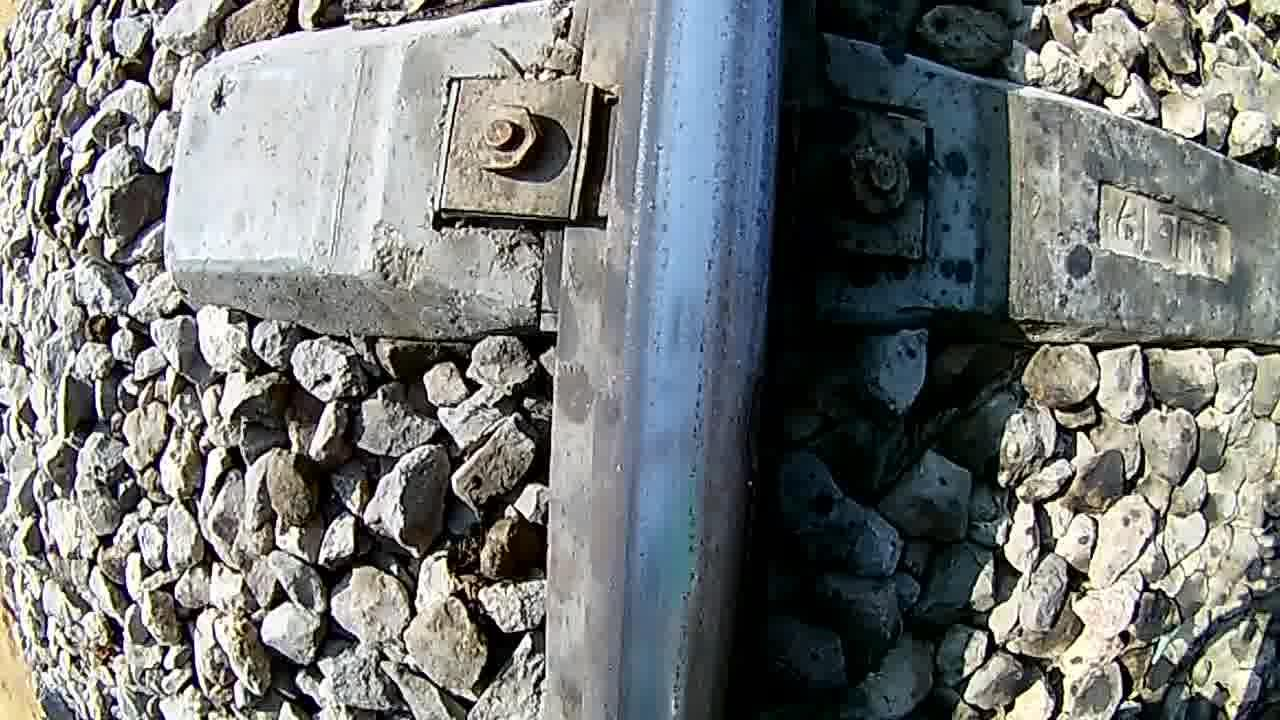clip_missing: (622, 0, 774, 720)
